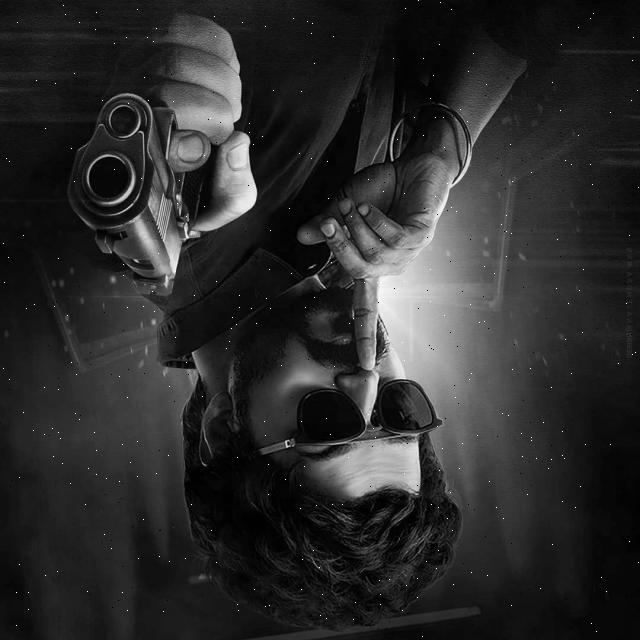gun: (46, 27, 252, 306)
